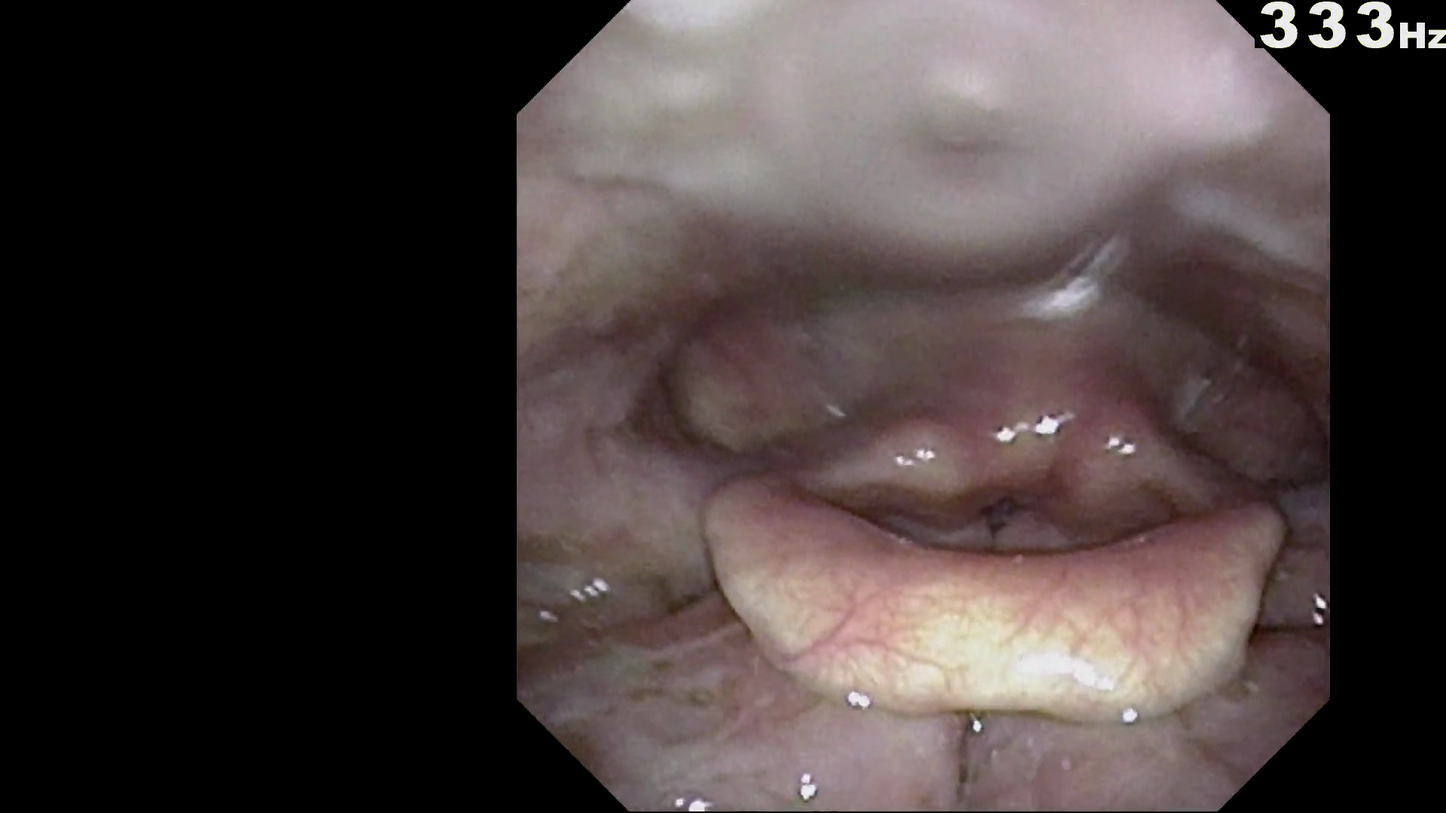epiglottis: (680, 487, 1289, 712)
trachea: (970, 487, 1033, 548)
